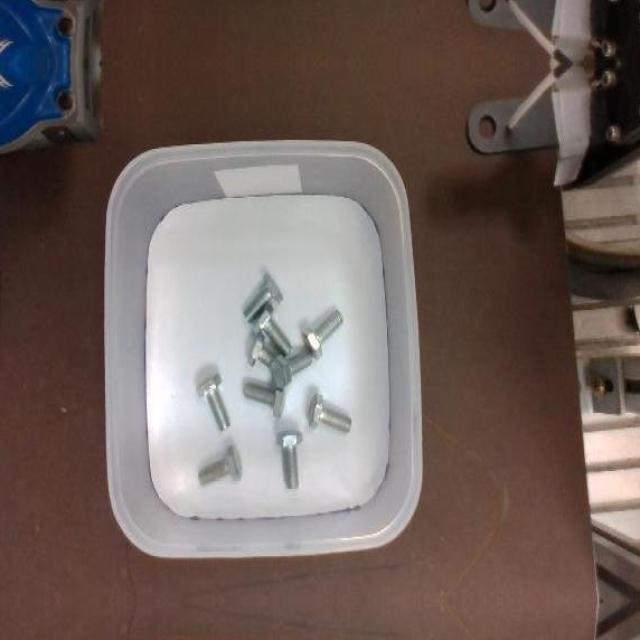screw: (302, 310, 344, 359), (253, 302, 291, 354), (243, 272, 283, 321), (197, 373, 230, 429), (198, 445, 242, 486), (309, 393, 351, 433), (270, 351, 311, 389), (276, 431, 302, 489), (244, 382, 285, 418)
